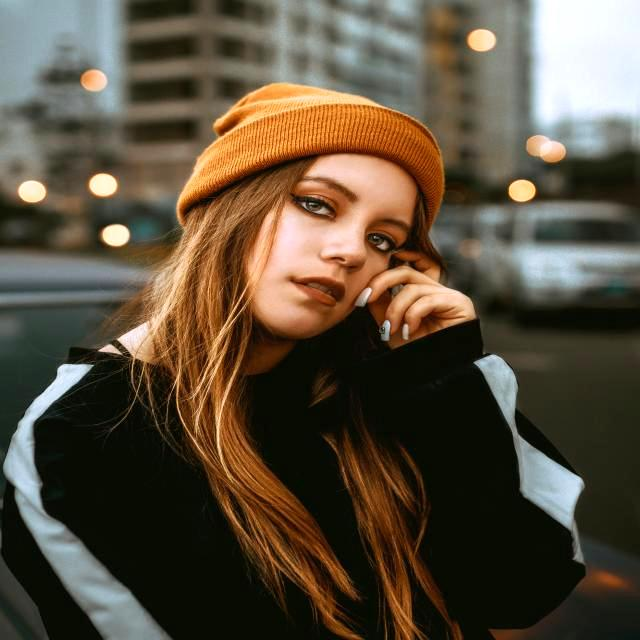no_hard_hat: (177, 83, 444, 231)
person: (12, 84, 484, 640)
